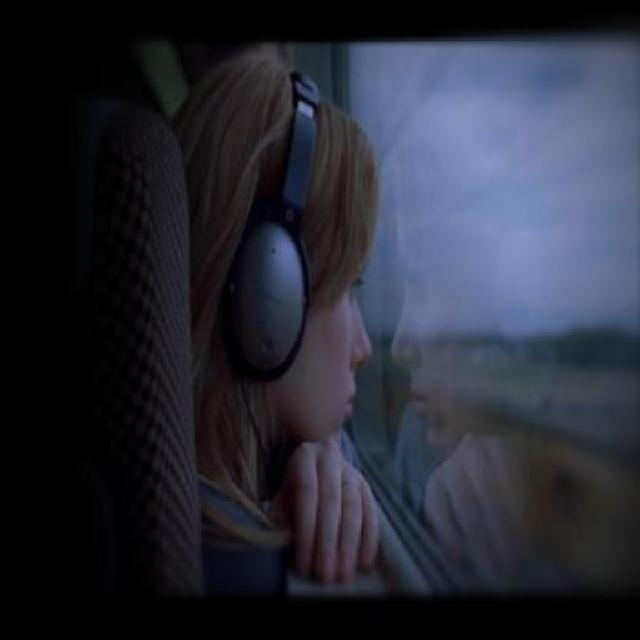earphone: (216, 45, 349, 373)
